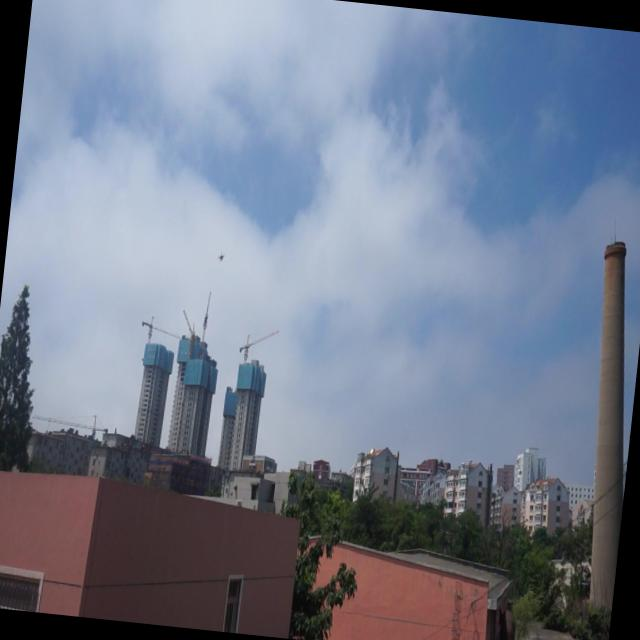drone: (214, 247, 228, 269)
